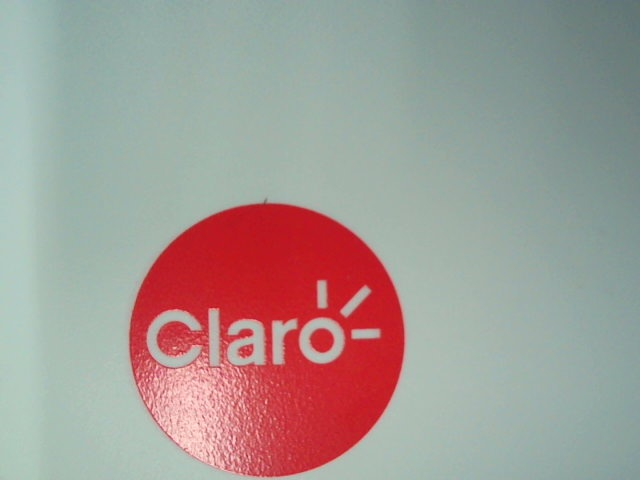BC_ClaorRed: (119, 192, 417, 475)
